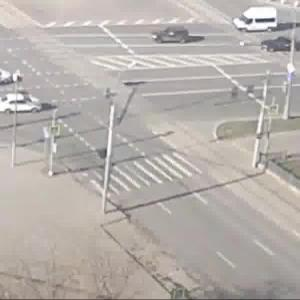car: (233, 11, 281, 34), (1, 90, 43, 115), (147, 26, 193, 45), (263, 38, 300, 53), (1, 67, 21, 85)
